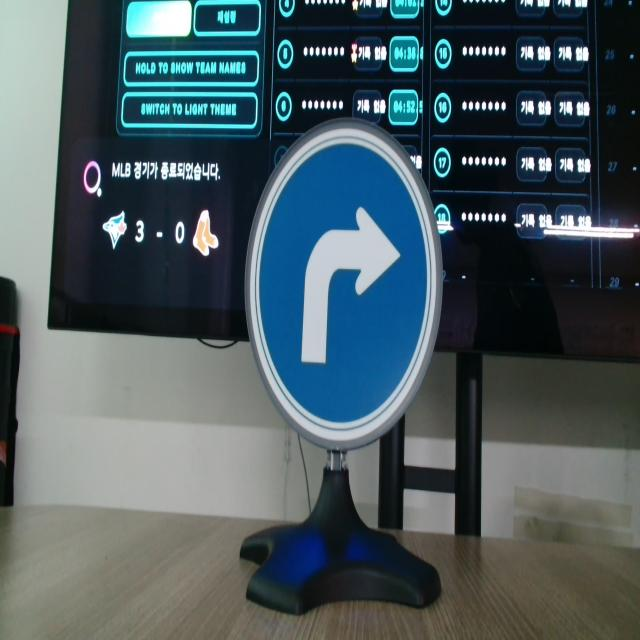right_dierection: (238, 98, 459, 491)
